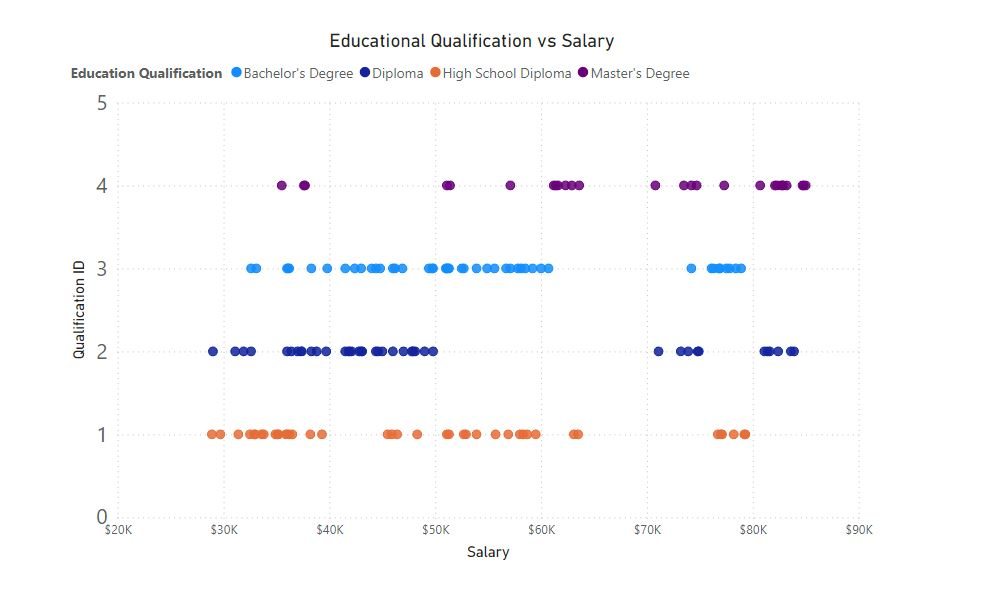

The page's visual inventory and layout, read from the dashboard file:
{"tool":"powerbi","page":{"name":"Q6","canvas":[1280,720],"ordinal":5},"visuals":[{"type":"scatterChart","title":"Educational Qualification vs Salary","fields":{"X":["staff.Salary"],"Y":["Education Qualification.Qualification ID"],"Series":["Education Qualification.Education Qualification"]},"box":[247,100.2,784.9,517.3],"z":0}]}

Visuals, with their boxes on the page's 1280x720 design canvas (x1, y1, x2, y2). These are canvas units, not pixel positions in the 1007x606 screenshot, which may show the page scaled, cropped or inside an application window:
"Educational Qualification vs Salary" scatterChart: rect(247, 100, 1032, 618)
